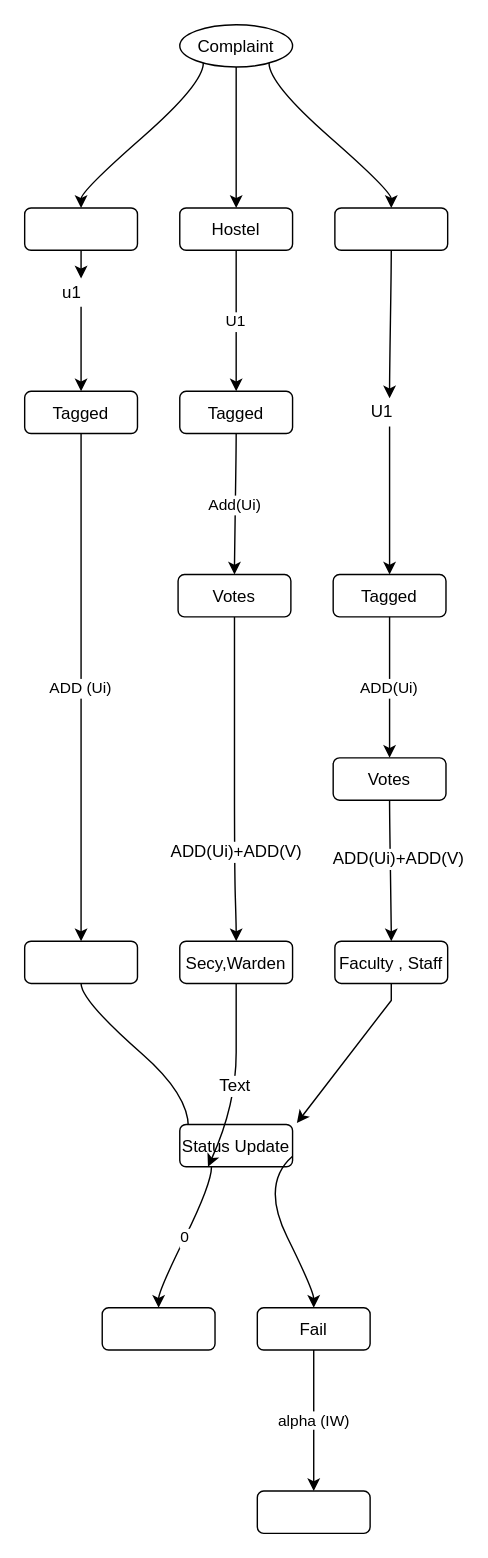
Some shapes in this 488 by 1558 pixel diagram are drawn without their labels. The shapes that lost their labels are listed below. From the top down, each one's centre as x and y in pixels, then its label:
At pixel 80 228: "Individual".
At pixel 390 228: "Institute".
At pixel 80 961: "Authority".
At pixel 158 1328: "Pass".
At pixel 313 1511: "RAised to higher".
